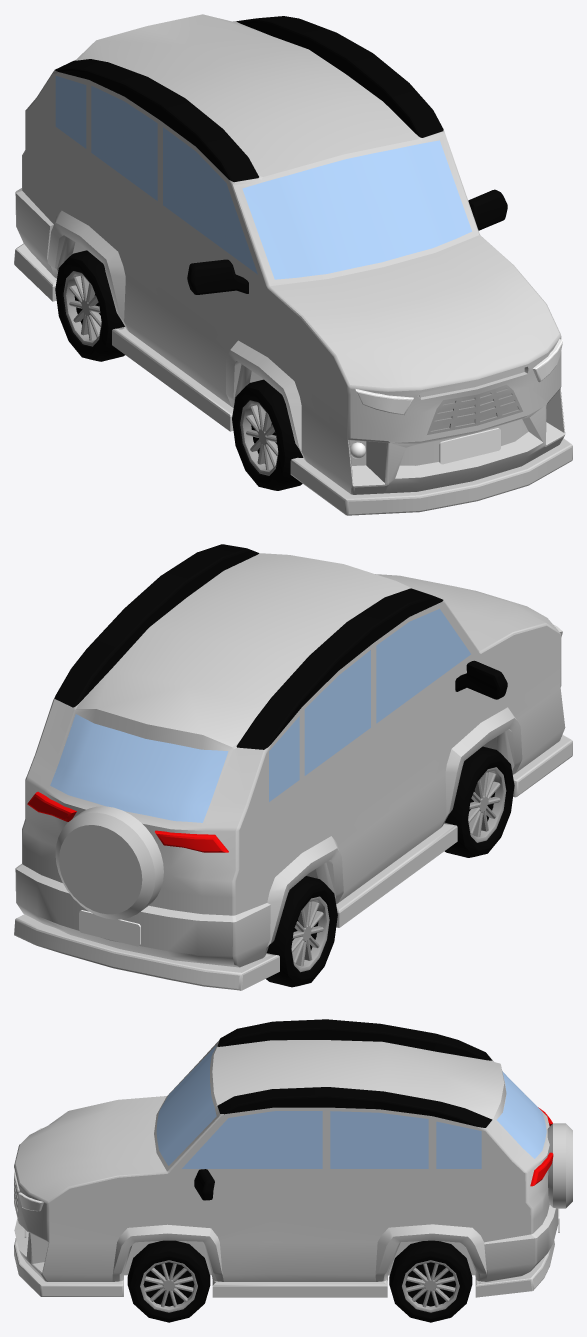
The picture shows the model from 3 angles, top to bottom: view 1: azimuth 30°, elevation 25°; view 2: azimuth 150°, elevation 25°; view 3: azimuth 270°, elevation 25°; orthographic projection. The views are drawn at different scales.
Parts seen in each view (by area): view 1: body, windows, topbits, Tube_2, Cube_3, grill, Cylinder_2, Tube, numberplate, Cube_2; view 2: body, windows, topbits, sparetyre, Tube_2, Cylinder_2, Cube, Tube, numberplate_1, Cube_3; view 3: body, windows, topbits, Tube_2, Cylinder_2, sparetyre, Cylinder_1, Tube, Cube_3, Cube.
Part boxes in pixels (bbox=[...]): body: bbox=[14, 14, 572, 515]; windows: bbox=[55, 76, 471, 279]; topbits: bbox=[55, 16, 443, 182]; Tube_2: bbox=[55, 250, 303, 490]; Cube_3: bbox=[187, 189, 507, 294]; grill: bbox=[427, 384, 522, 434]; Cylinder_2: bbox=[69, 275, 277, 469]; Tube: bbox=[63, 271, 278, 475]; numberplate: bbox=[439, 428, 500, 464]; Cube_2: bbox=[355, 339, 562, 415]; body: bbox=[14, 553, 572, 990]; windows: bbox=[50, 608, 470, 822]; topbits: bbox=[54, 544, 443, 749]; sparetyre: bbox=[55, 806, 163, 919]; Tube_2: bbox=[266, 746, 514, 987]; Cylinder_2: bbox=[291, 772, 500, 966]; Cube: bbox=[27, 791, 228, 852]; Tube: bbox=[291, 767, 506, 972]; numberplate_1: bbox=[79, 910, 140, 946]; Cube_3: bbox=[455, 660, 507, 699]; body: bbox=[14, 1039, 558, 1297]; windows: bbox=[156, 1045, 546, 1168]; topbits: bbox=[217, 1019, 492, 1127]; Tube_2: bbox=[127, 1240, 472, 1322]; Cylinder_2: bbox=[144, 1263, 455, 1307]; sparetyre: bbox=[547, 1123, 572, 1208]; Cylinder_1: bbox=[143, 1262, 455, 1306]; Tube: bbox=[140, 1260, 459, 1312]; Cube_3: bbox=[194, 1169, 214, 1200]; Cube: bbox=[530, 1107, 553, 1186].
Size of the model in its own units: 844 by 776 by 1741.
